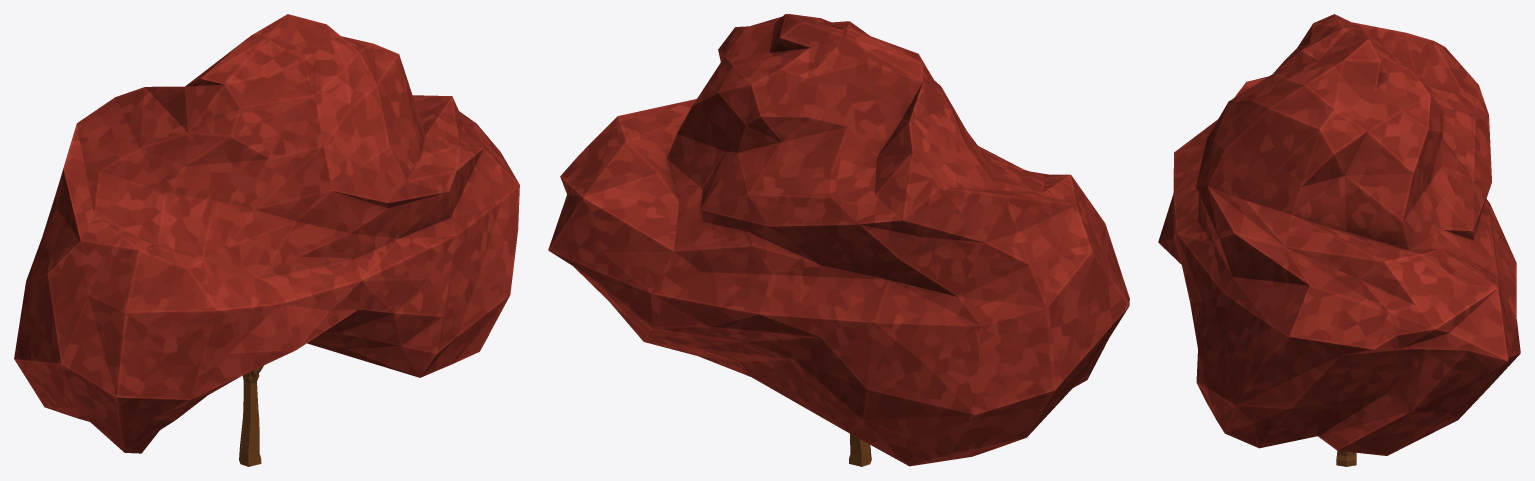
File: MapleTree.gltf
3 renders of one model, left to right at view 1: azimuth 30°, elevation 25°; view 2: azimuth 150°, elevation 25°; view 3: azimuth 270°, elevation 25°, orthographic. The views are drawn at different scales.
Visible parts, largest first — view 1: node-0; view 2: node-0; view 3: node-0.
Boxes of the visible parts, x1,y1,x2,y2 form: node-0: (14,14,519,466); node-0: (548,14,1129,466); node-0: (1158,14,1520,466).
Size of the model in its own units: 14.87 by 12.41 by 9.1.
1 material, 1 textured.
